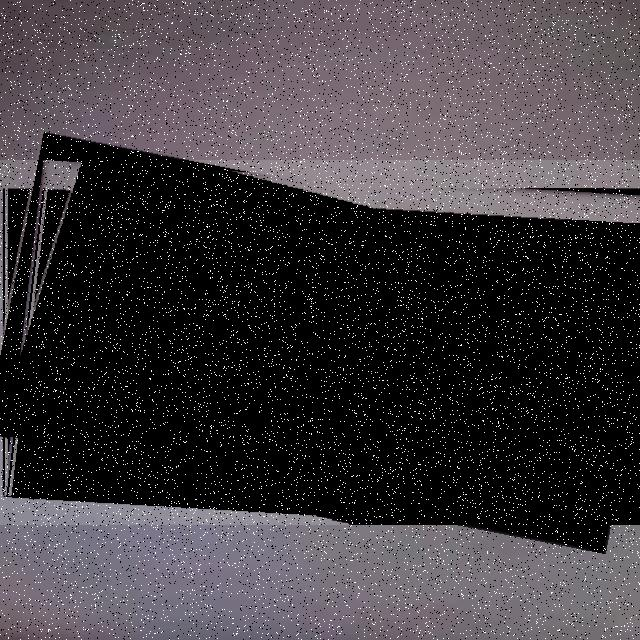lima puluh ribu rupiah: (0, 160, 640, 525)
